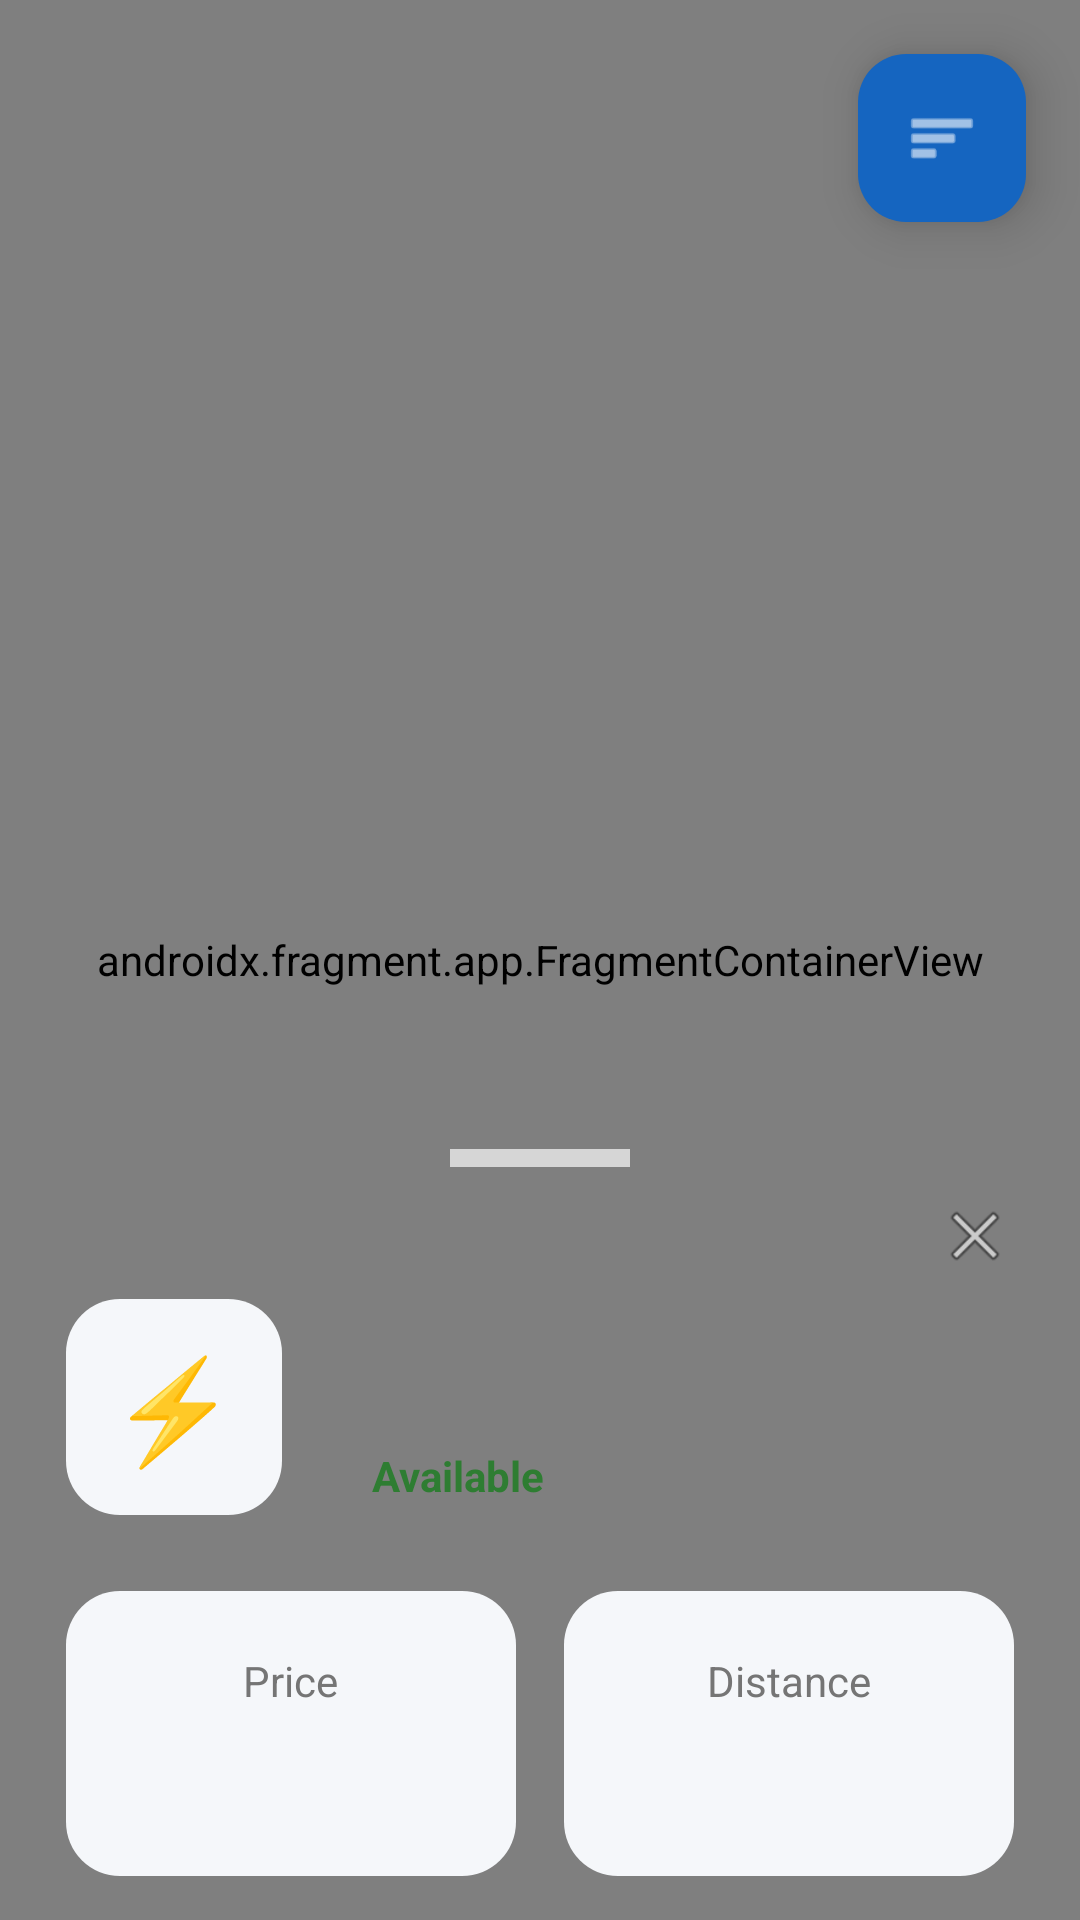

Named icons in this screenshot (1080w x 1920h) and their centers, [x,y]:
close clear cancel: [975,1236]
Filter: [942,138]
